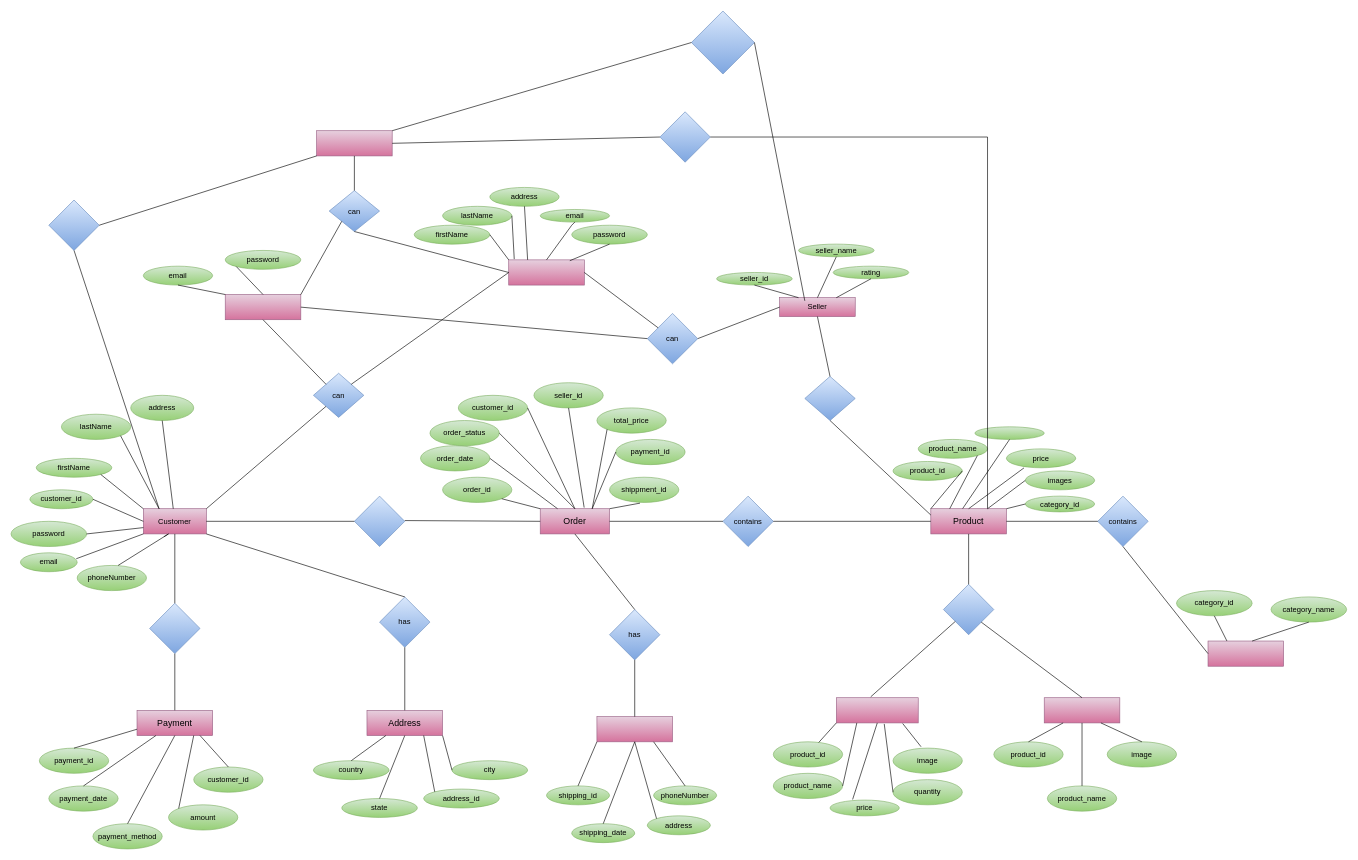
The diagram is 1358 pixels wide and 860 high, and some of its shapes have lost their labels. The shapes that lost their labels are listed below. From the top down, each one's centre as x and y in pixels, then its label:
pixel 722 42: block/view
pixel 354 143: Admin
pixel 684 136: views
pixel 73 224: block customer
pixel 546 272: Register
pixel 263 307: Login
pixel 829 398: adds
pixel 1009 432: description
pixel 379 521: Makes/View
pixel 174 628: Makes
pixel 968 609: added to
pixel 1245 653: Product-category
pixel 634 729: Shipping Details
pixel 877 710: Cart
pixel 1082 710: Wishlist
